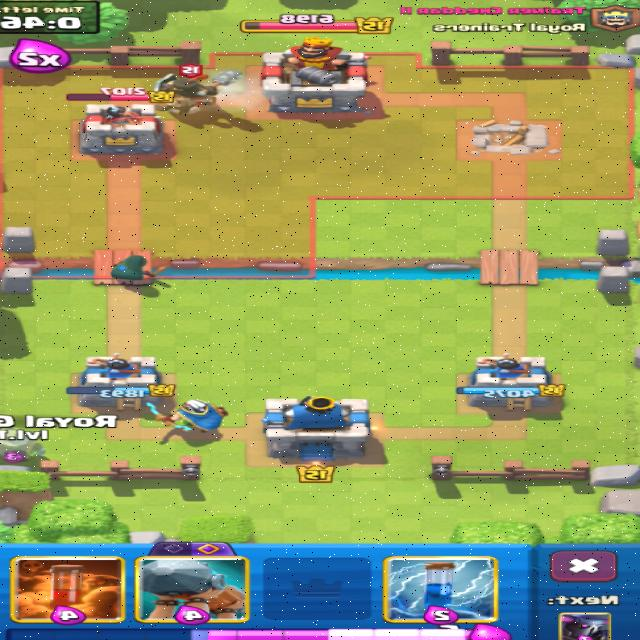Enemy-DarkPrince-Shield-Charge: (155, 64, 242, 115)
Enemy-KingTower-Activated: (263, 37, 366, 112)
Enemy-PrincessTower: (80, 102, 164, 154)
Player-Bandit: (112, 255, 163, 284)
Player-KingTower: (262, 396, 371, 459)
Player-MagicArcher: (158, 400, 227, 432)
Player-PrincessTower: (458, 353, 565, 409), (68, 353, 168, 408)
